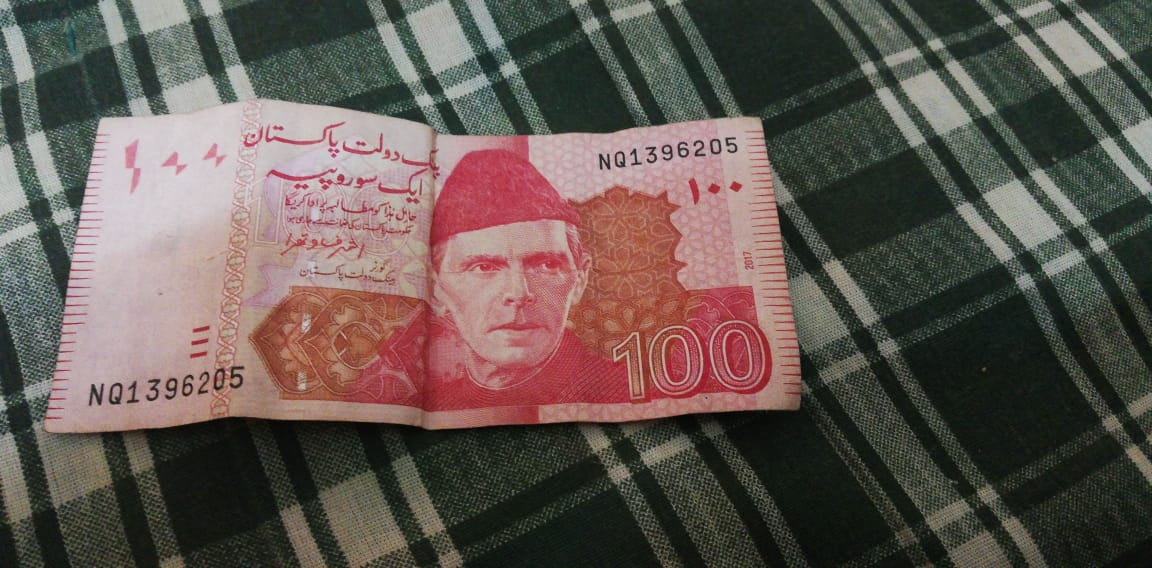100 rupee: (44, 60, 800, 445)
